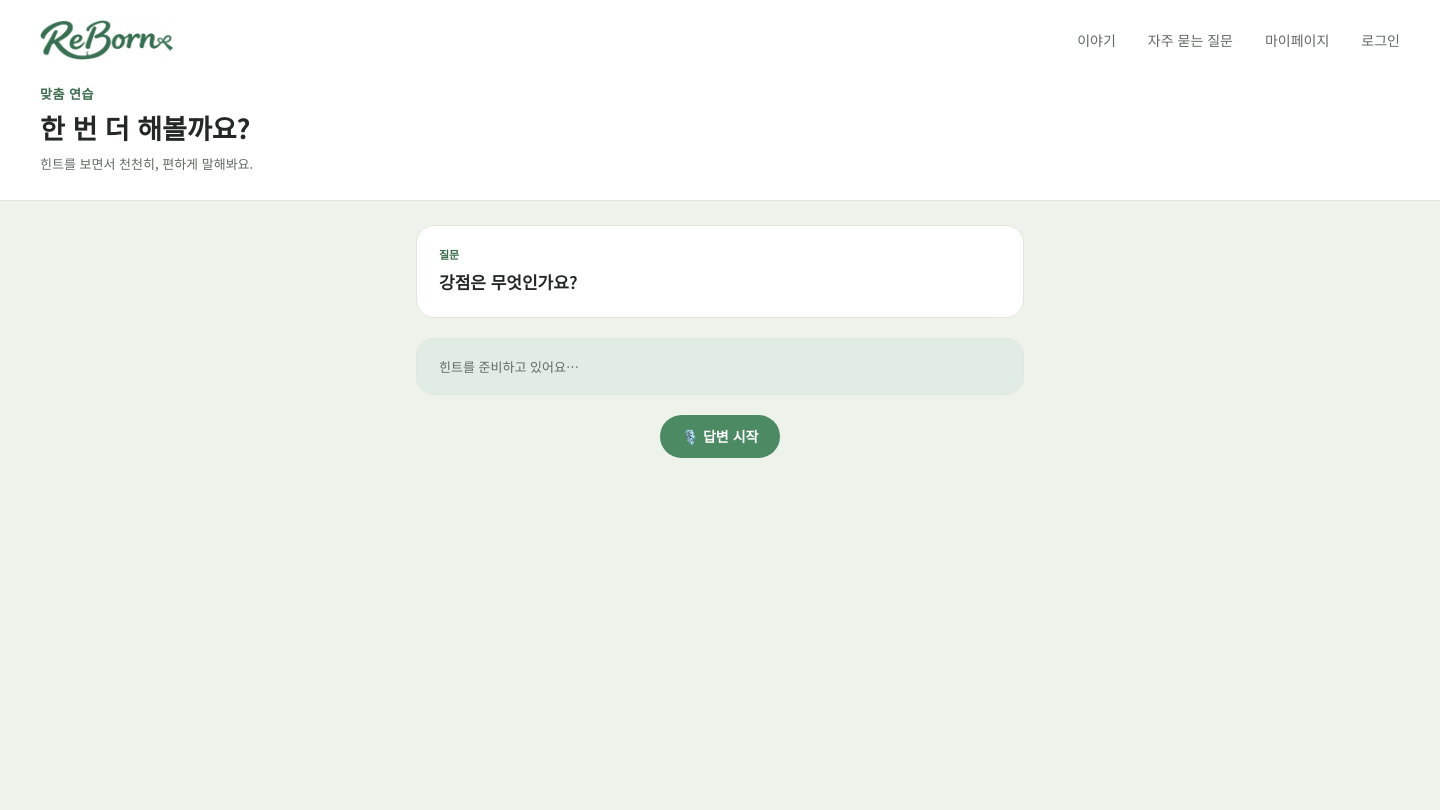
it: PracticePage › 결과: 좋아진 점만 알린다 › 이전에 답을 못 남겼는데 이번엔 남겼으면 그걸 알아준다
The image size is (1440, 810).
Click the button "🎙️ 답변 시작": [720, 437] box [660, 415, 780, 458]
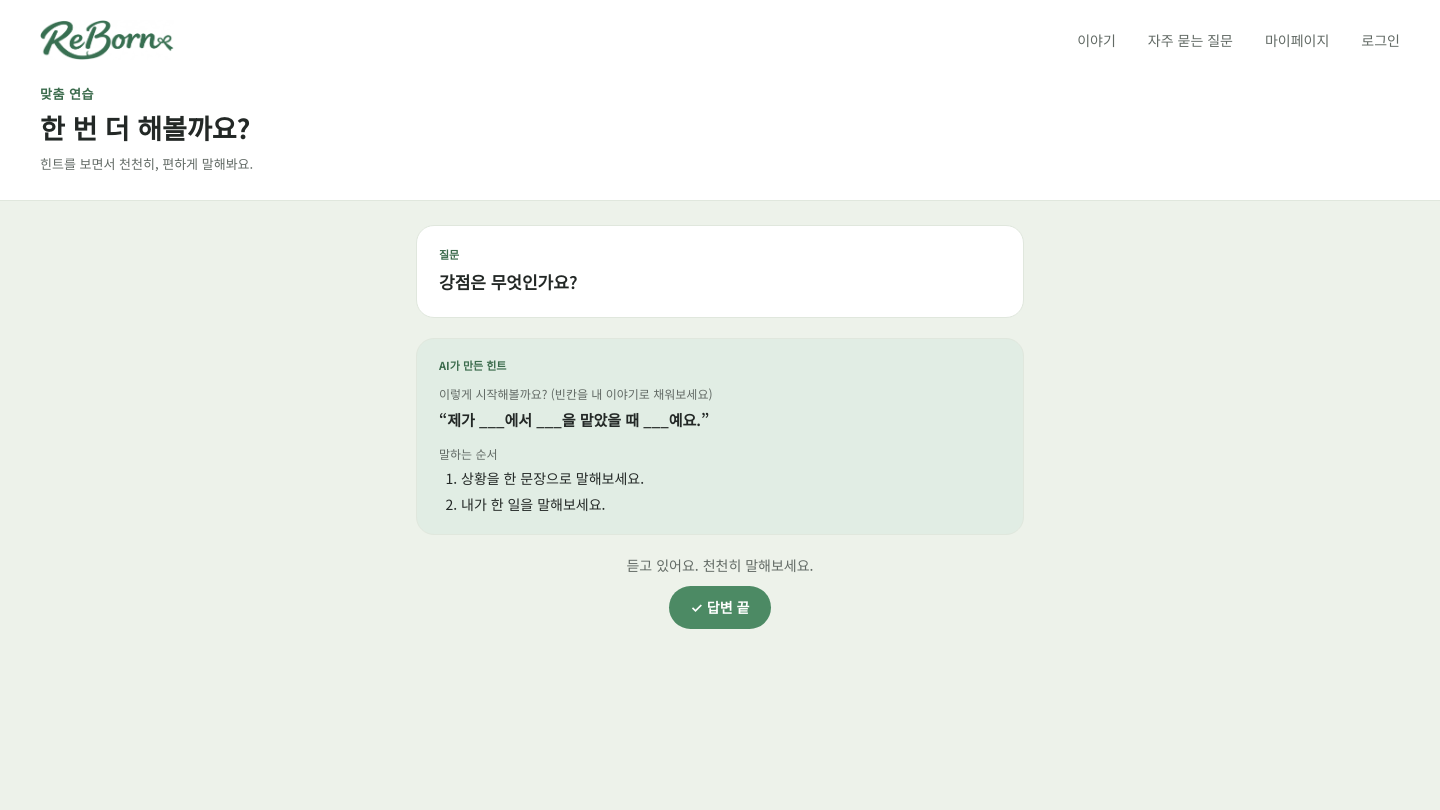
Click the button "✓ 답변 끝": [720, 607] box [669, 586, 771, 629]
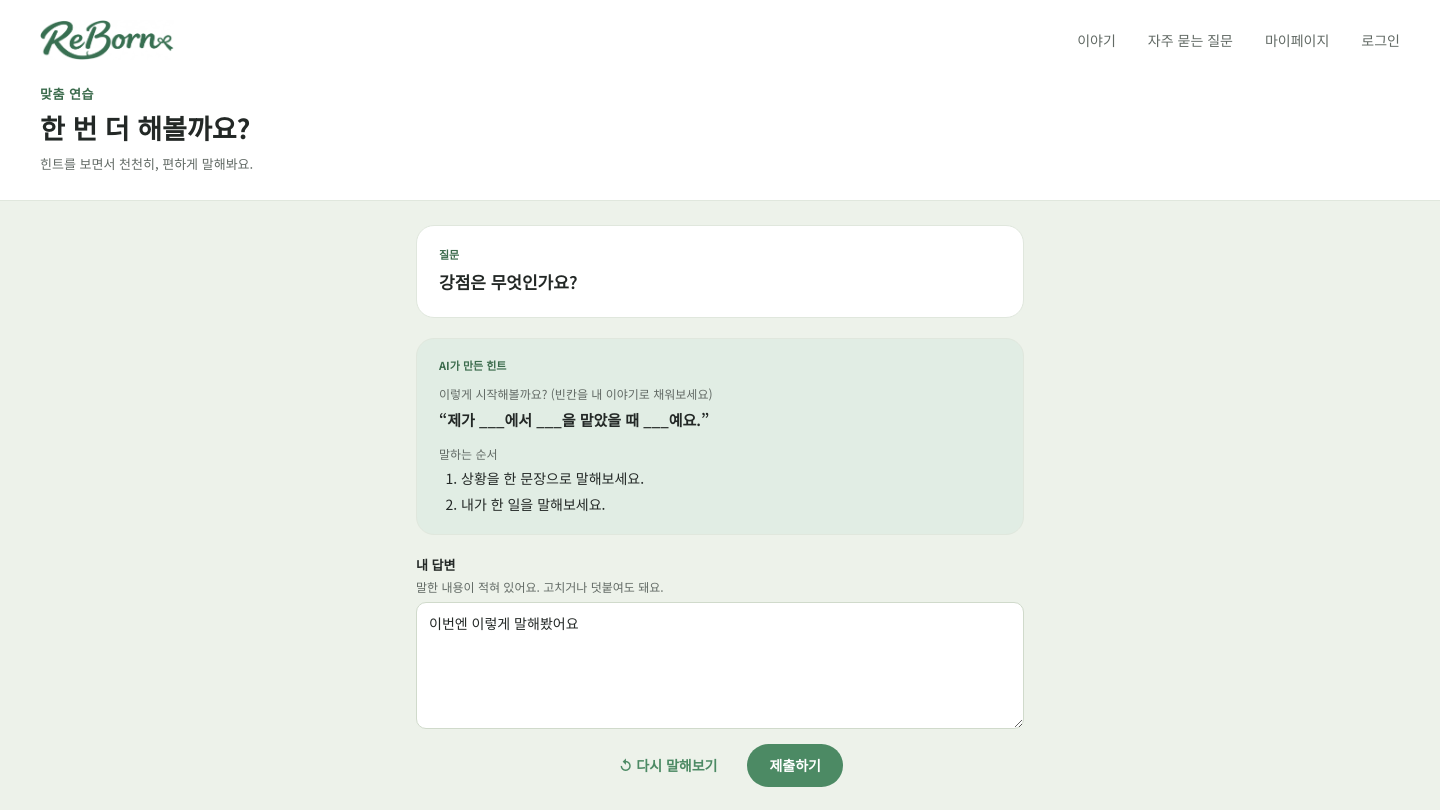
Click the button "제출하기": [795, 766] box [748, 744, 843, 787]
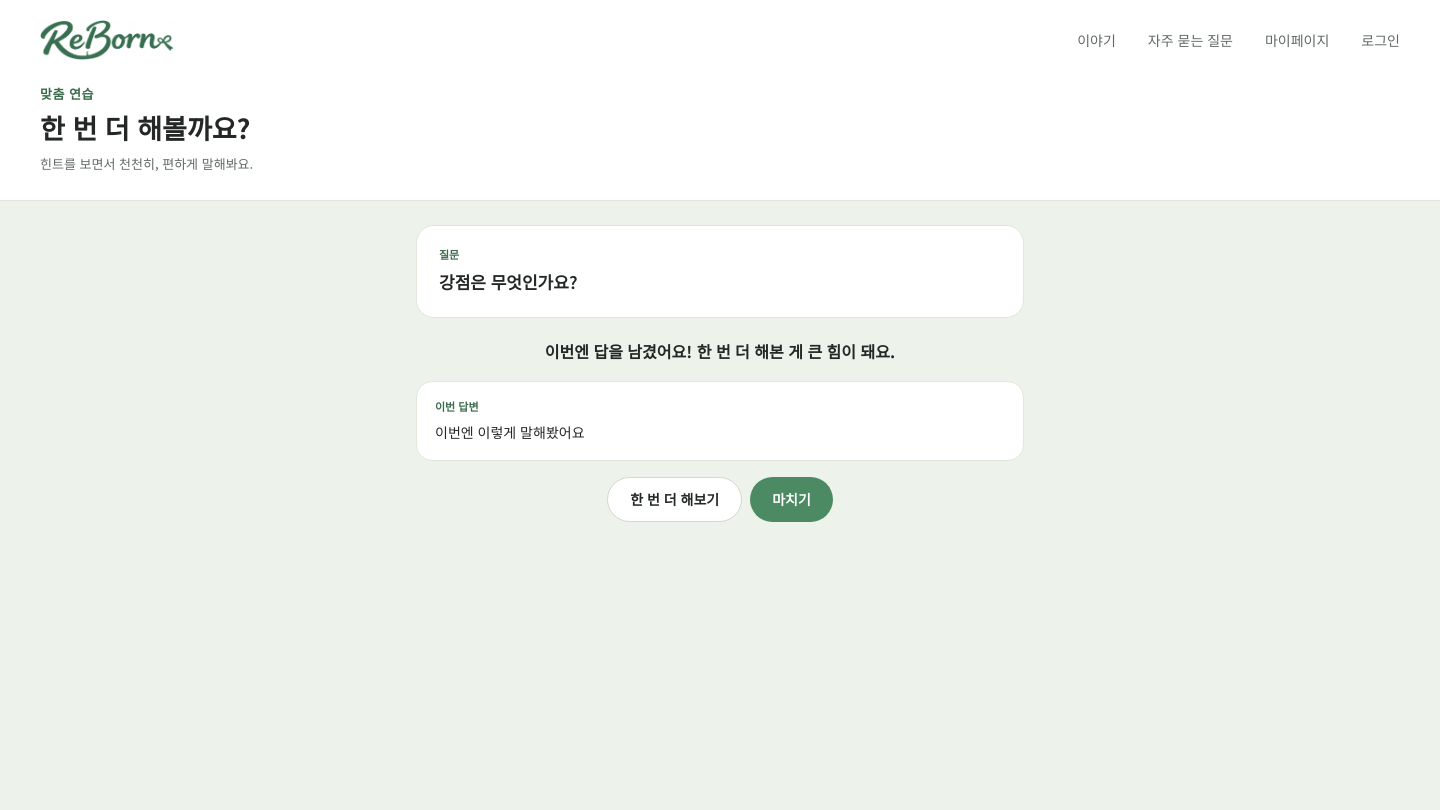
Result: the text "이번엔 답을 남겼어요! 한 번 더 해본 게 큰 힘이 돼요." is shown at [545, 339, 895, 363]
